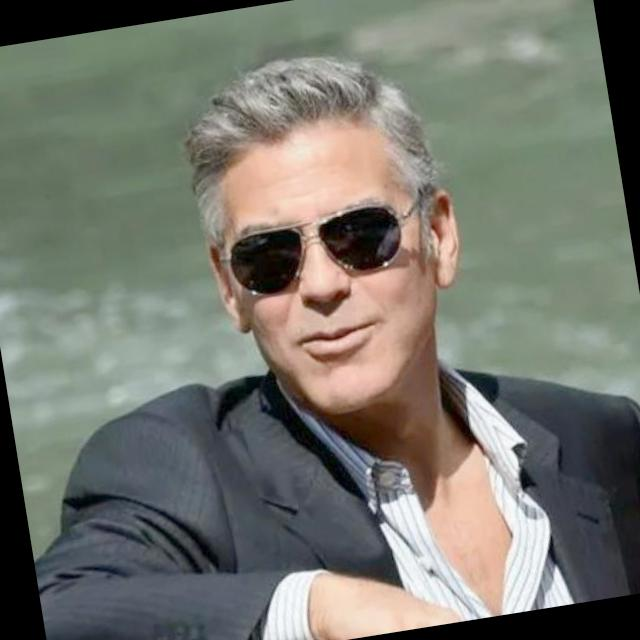glasses: (214, 195, 434, 302)
